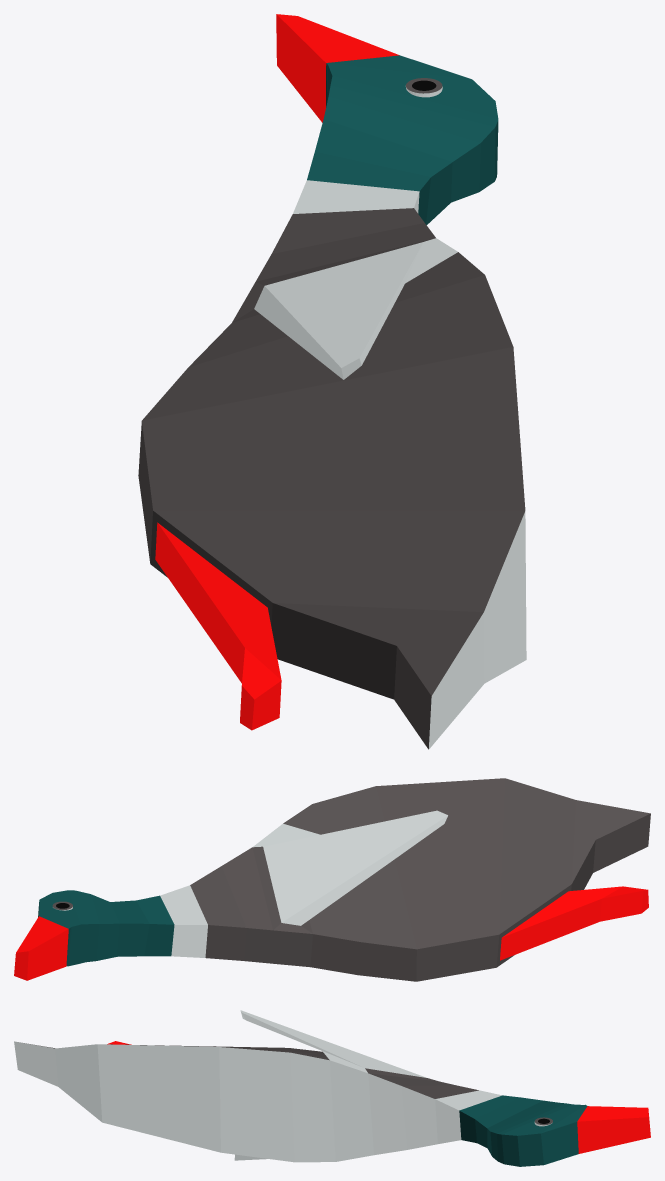
3 views of the same model, one above another, from view 1: azimuth 30°, elevation 25°; view 2: azimuth 150°, elevation 25°; view 3: azimuth 270°, elevation 25° (orthographic). The views are drawn at different scales.
Visible parts, largest first — view 1: Plane; view 2: Plane; view 3: Plane.
Part boxes in pixels (x1,y1,x2,y2): Plane: (138, 14, 526, 749); Plane: (14, 778, 650, 981); Plane: (14, 1010, 650, 1166).
Bounding box in the file's own units: 7.57 × 3.13 × 12.7.
